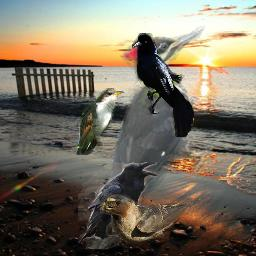Crow: (78, 162, 157, 244), (132, 33, 194, 137)
Cuckoo: (76, 88, 124, 155)
Swallow: (100, 194, 194, 244)
Woodpecker: (86, 26, 213, 249)
